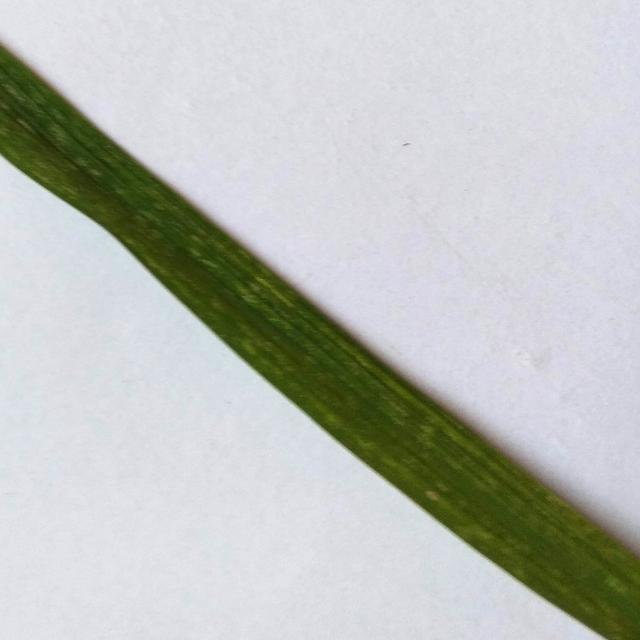Rice_Healthy: (0, 44, 640, 640)
